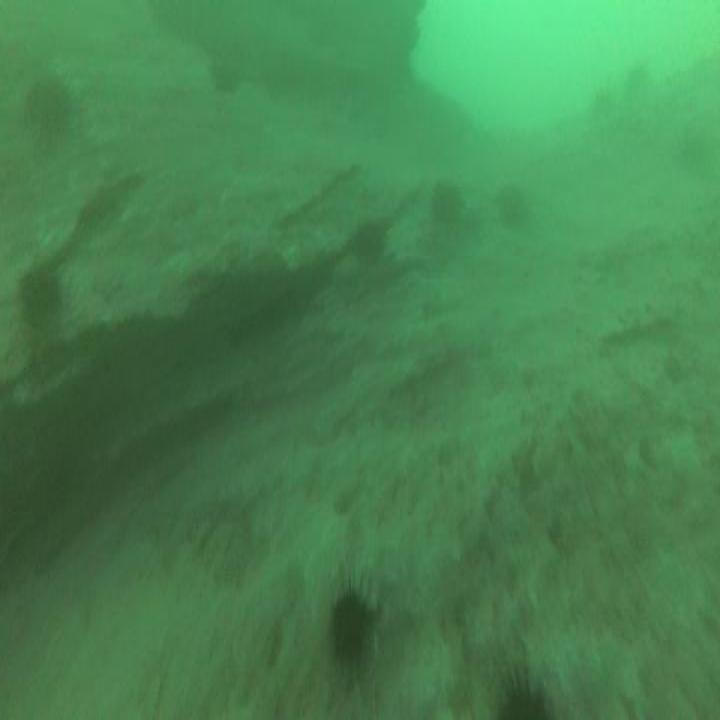echinus: (27, 74, 70, 138), (16, 258, 57, 325), (331, 590, 369, 656), (355, 217, 386, 267), (497, 181, 528, 224), (433, 181, 462, 226)
